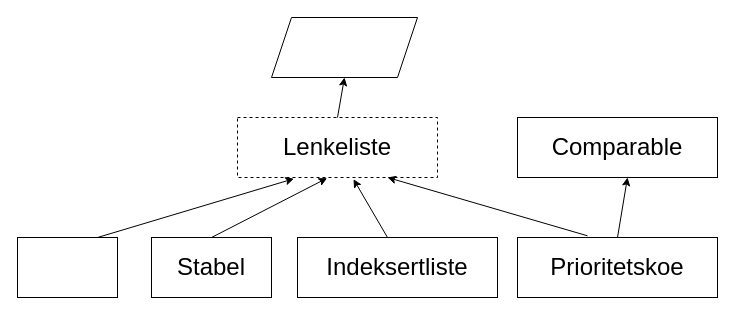
Image size: 735x315. Some labels were removed from this diagram. The centre of each missing label's shape, as x and y in pixels:
"Koe" belongs at [67,267].
"Liste" belongs at [344,47].
